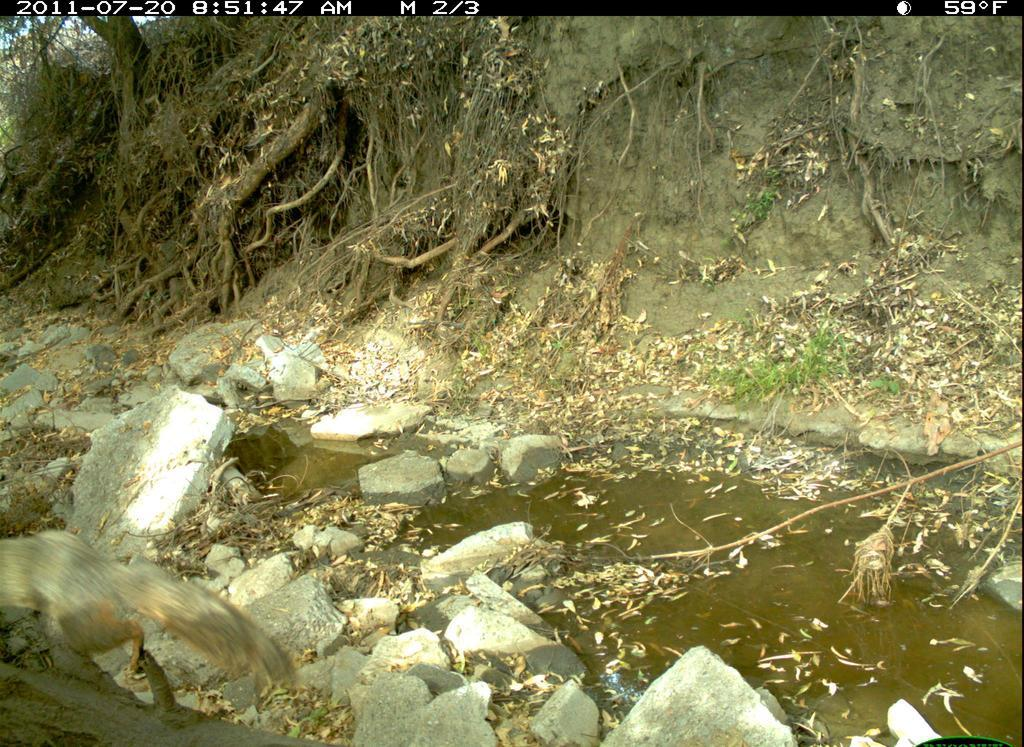squirrel: (1, 518, 308, 706)
